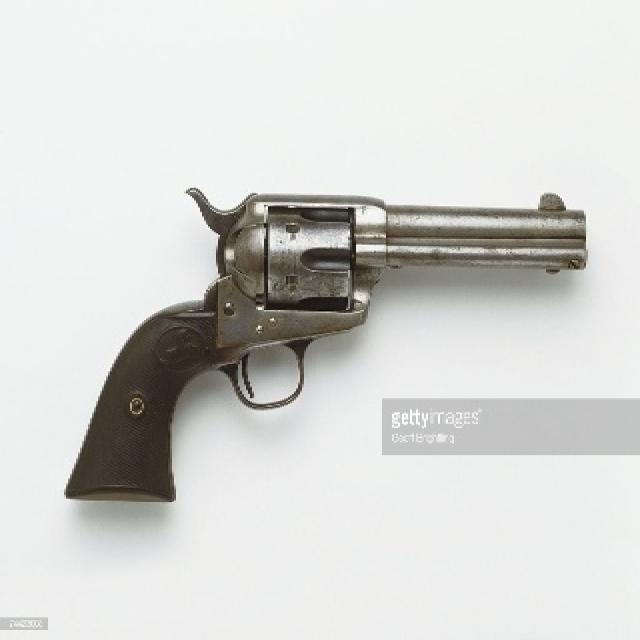handgun: (75, 182, 589, 502)
